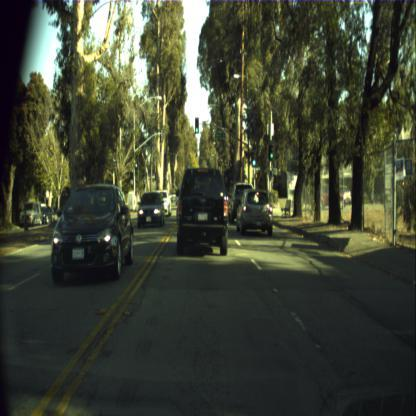Green: (251, 149, 256, 167), (268, 144, 274, 158), (194, 117, 198, 133)
